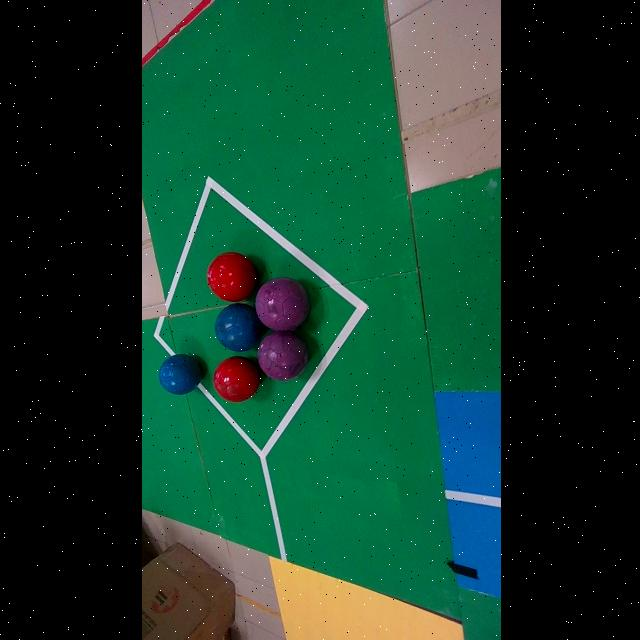B: (213, 303, 264, 351), (156, 354, 201, 395)
P: (253, 277, 308, 331), (256, 331, 307, 382)
R: (205, 252, 256, 302), (212, 356, 258, 403)
